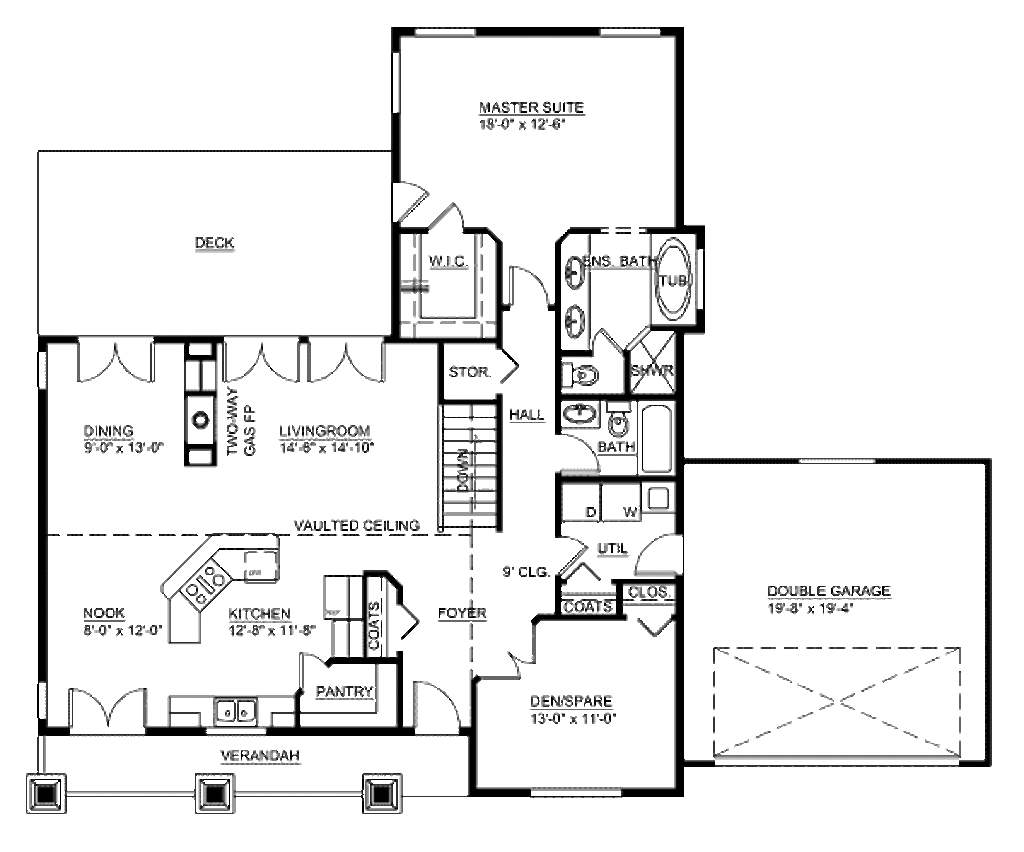door: (61, 323, 168, 384), (297, 327, 390, 389), (469, 625, 543, 690), (60, 684, 152, 734), (210, 339, 299, 384), (402, 673, 465, 733), (493, 256, 549, 315), (630, 533, 690, 576), (557, 425, 603, 481), (420, 193, 474, 239), (544, 533, 585, 576), (387, 181, 427, 222), (289, 650, 330, 688)
large_sink: (558, 356, 603, 389), (599, 405, 635, 436)
small_sink: (560, 247, 587, 350), (556, 400, 603, 425)
stairs: (430, 398, 512, 543)
tub: (648, 234, 698, 326), (631, 401, 681, 475)
twin_sink: (211, 694, 266, 733)
window: (787, 446, 878, 468), (530, 784, 623, 802), (597, 18, 662, 39), (414, 26, 485, 42), (390, 50, 403, 110)
